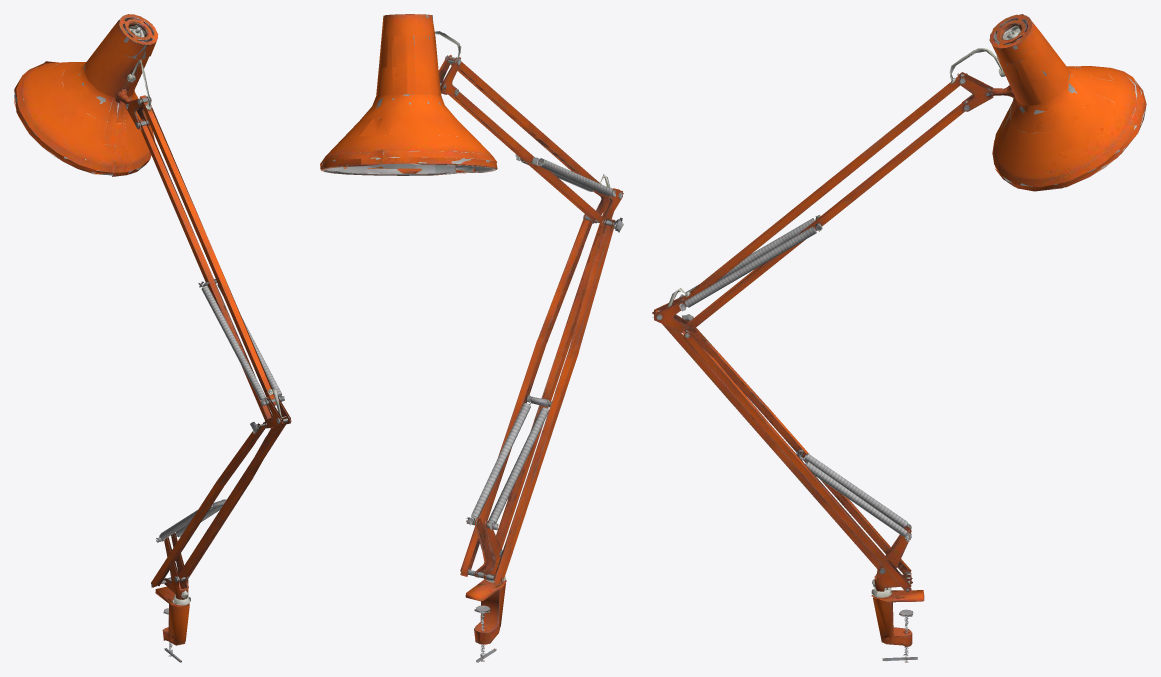
The model's file is desk_lamp_arm_01.glb.
The picture shows the model from 3 angles, left to right: view 1: azimuth 30°, elevation 25°; view 2: azimuth 150°, elevation 25°; view 3: azimuth 270°, elevation 25°; orthographic projection. The views are drawn at different scales.
Parts seen in each view (by area): view 1: desk_lamp_arm_01; view 2: desk_lamp_arm_01; view 3: desk_lamp_arm_01.
Part boxes in pixels (x1,y1,x2,y2): desk_lamp_arm_01: (14, 14, 291, 662); desk_lamp_arm_01: (320, 14, 623, 662); desk_lamp_arm_01: (652, 14, 1146, 662).
Bounding box in the file's own units: 0.0951 × 0.42 × 0.2897.
2 materials, 2 textured.
